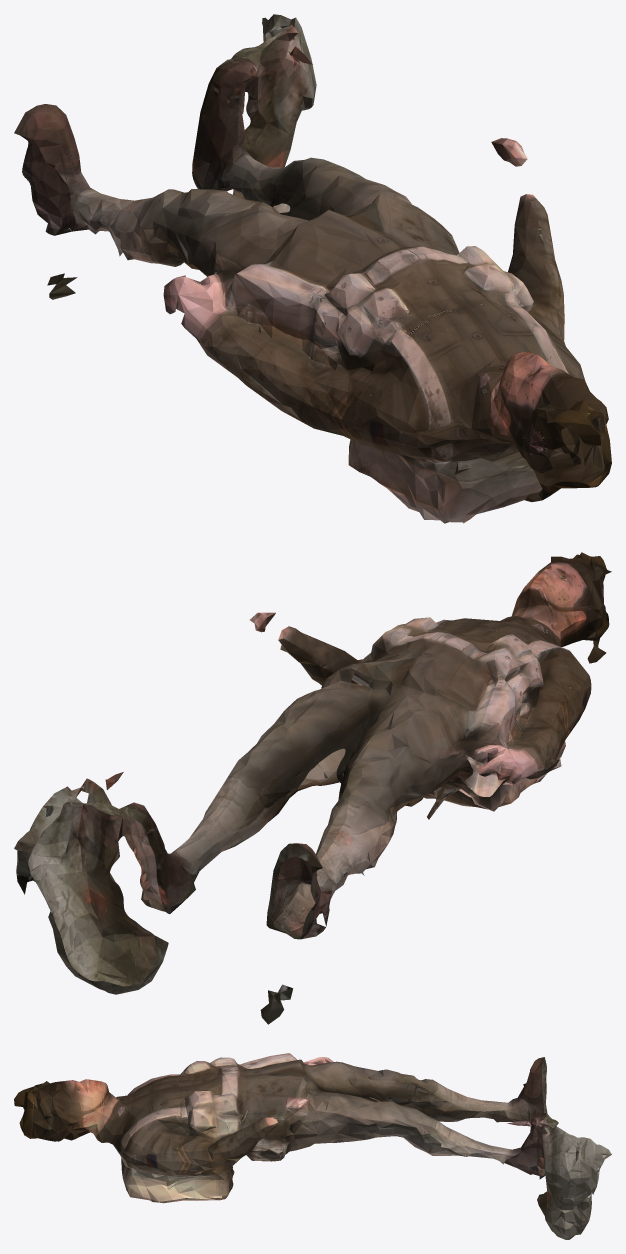
The model's file is soldat_model_LP_T_R.obj.
The picture shows the model from 3 angles, top to bottom: view 1: azimuth 30°, elevation 25°; view 2: azimuth 150°, elevation 25°; view 3: azimuth 270°, elevation 25°; orthographic projection. The views are drawn at different scales.
Visible parts, largest first — view 1: soldat_model_LP_T.obj; view 2: soldat_model_LP_T.obj; view 3: soldat_model_LP_T.obj.
Boxes of the visible parts, x1,y1,x2,y2 form: soldat_model_LP_T.obj: (14, 14, 611, 523); soldat_model_LP_T.obj: (14, 552, 611, 1024); soldat_model_LP_T.obj: (14, 1053, 611, 1239).
Bounding box in the file's own units: 1.86 × 1.32 × 4.6.
1 material, 1 textured.
